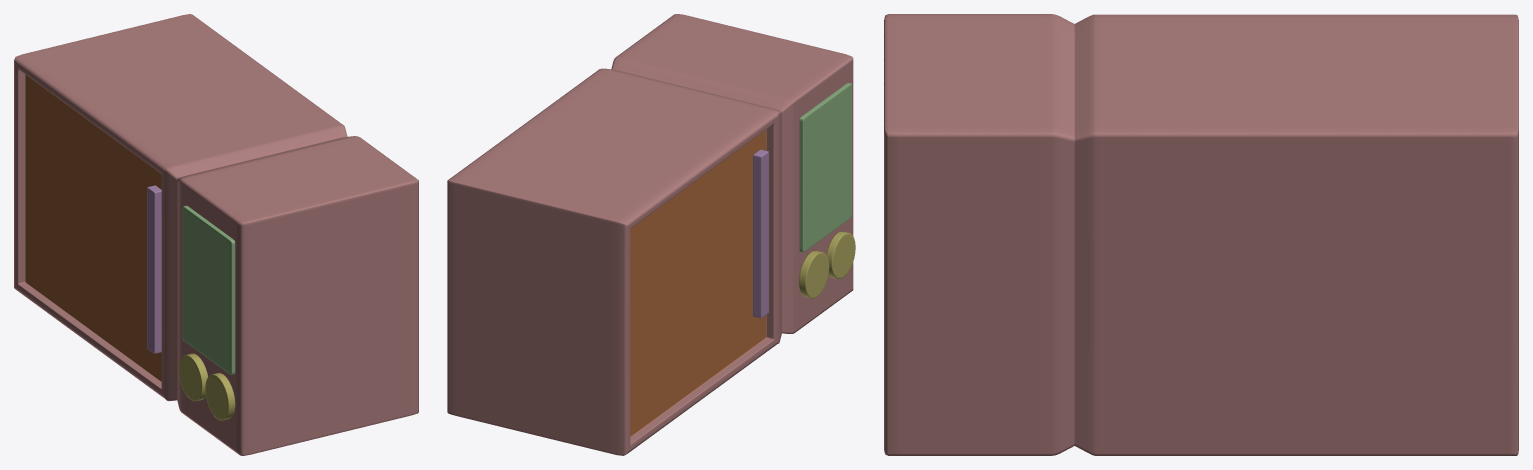
File: Microwave.fbx
3 views of the same model, side by side, from view 1: azimuth 30°, elevation 25°; view 2: azimuth 150°, elevation 25°; view 3: azimuth 270°, elevation 25° (orthographic). The views are drawn at different scales.
Parts seen in each view (by area): view 1: Microwave; view 2: Microwave; view 3: Microwave.
Boxes of the visible parts, x1,y1,x2,y2 form: Microwave: (14, 14, 418, 455); Microwave: (447, 14, 855, 455); Microwave: (884, 14, 1518, 455).
Size of the model in its own units: 1.2 by 1.44 by 2.57.
